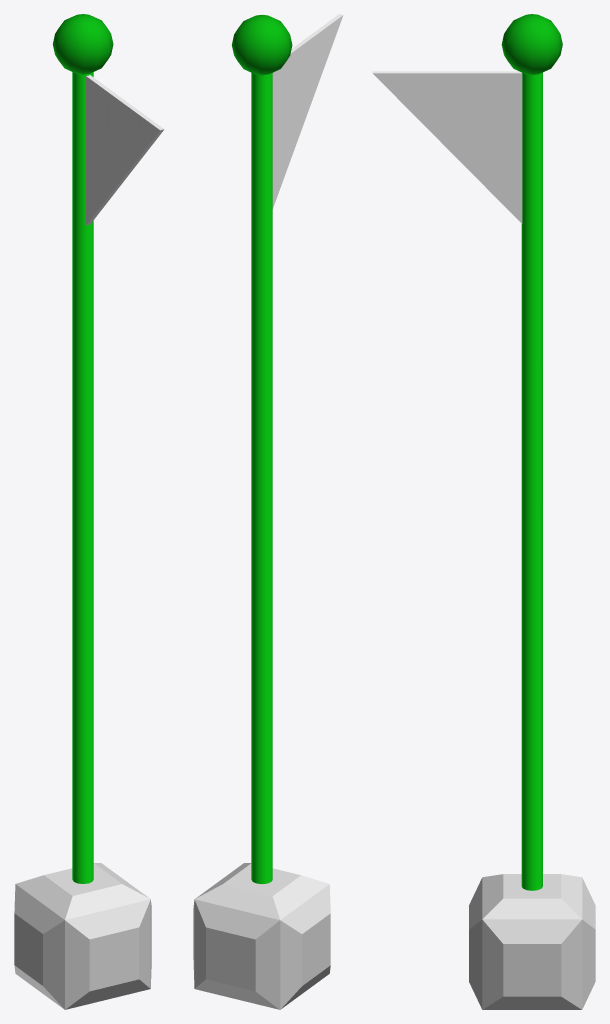
File: Flag.fbx
3 renders of one model, left to right at view 1: azimuth 30°, elevation 25°; view 2: azimuth 150°, elevation 25°; view 3: azimuth 270°, elevation 25°, orthographic.
Parts seen in each view (by area): view 1: Flag; view 2: Flag; view 3: Flag.
Boxes of the visible parts, left/top/right/bottom form: Flag: left=14, top=14, right=164, bottom=1009; Flag: left=193, top=14, right=343, bottom=1009; Flag: left=372, top=14, right=595, bottom=1009.
Bounding box in the file's own units: 59.52 × 505 × 105.
